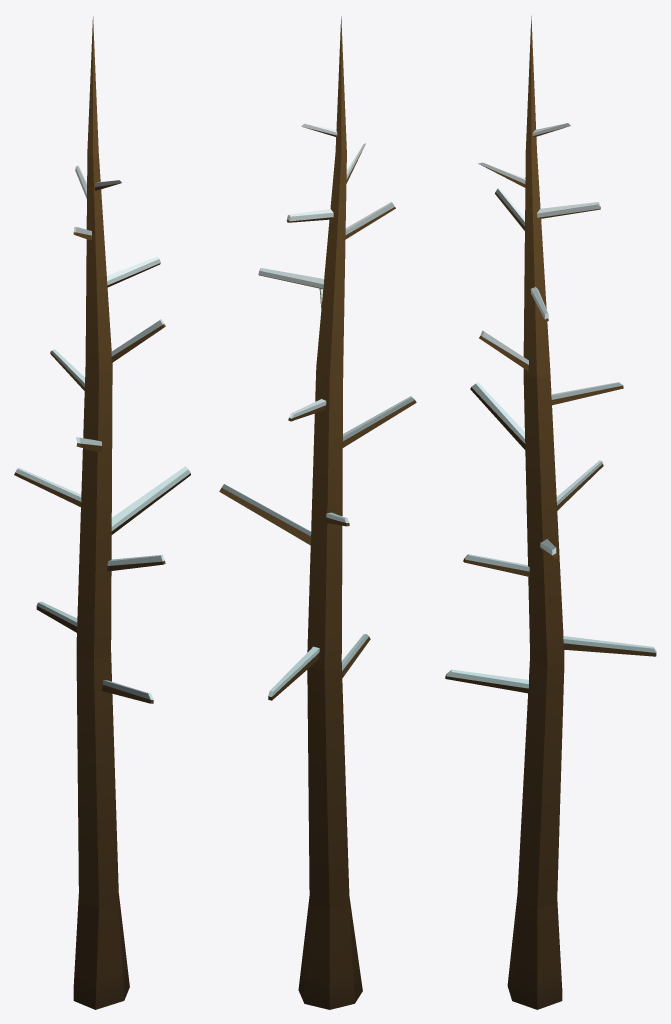
Rendered from Winter_Tree_07.glb.
The picture shows the model from 3 angles, left to right: view 1: azimuth 30°, elevation 25°; view 2: azimuth 150°, elevation 25°; view 3: azimuth 270°, elevation 25°; orthographic projection.
Visible parts, largest first — view 1: Winter_Tree_07_LOD0; view 2: Winter_Tree_07_LOD0; view 3: Winter_Tree_07_LOD0.
Part boxes in pixels (x1,y1,x2,y2): Winter_Tree_07_LOD0: (14, 16, 190, 1009); Winter_Tree_07_LOD0: (219, 16, 416, 1009); Winter_Tree_07_LOD0: (445, 16, 656, 1009).
Size of what is drawn, in the model's own units: 1.2 by 7.23 by 1.42.
Materials: 1 (1 with a texture image).
